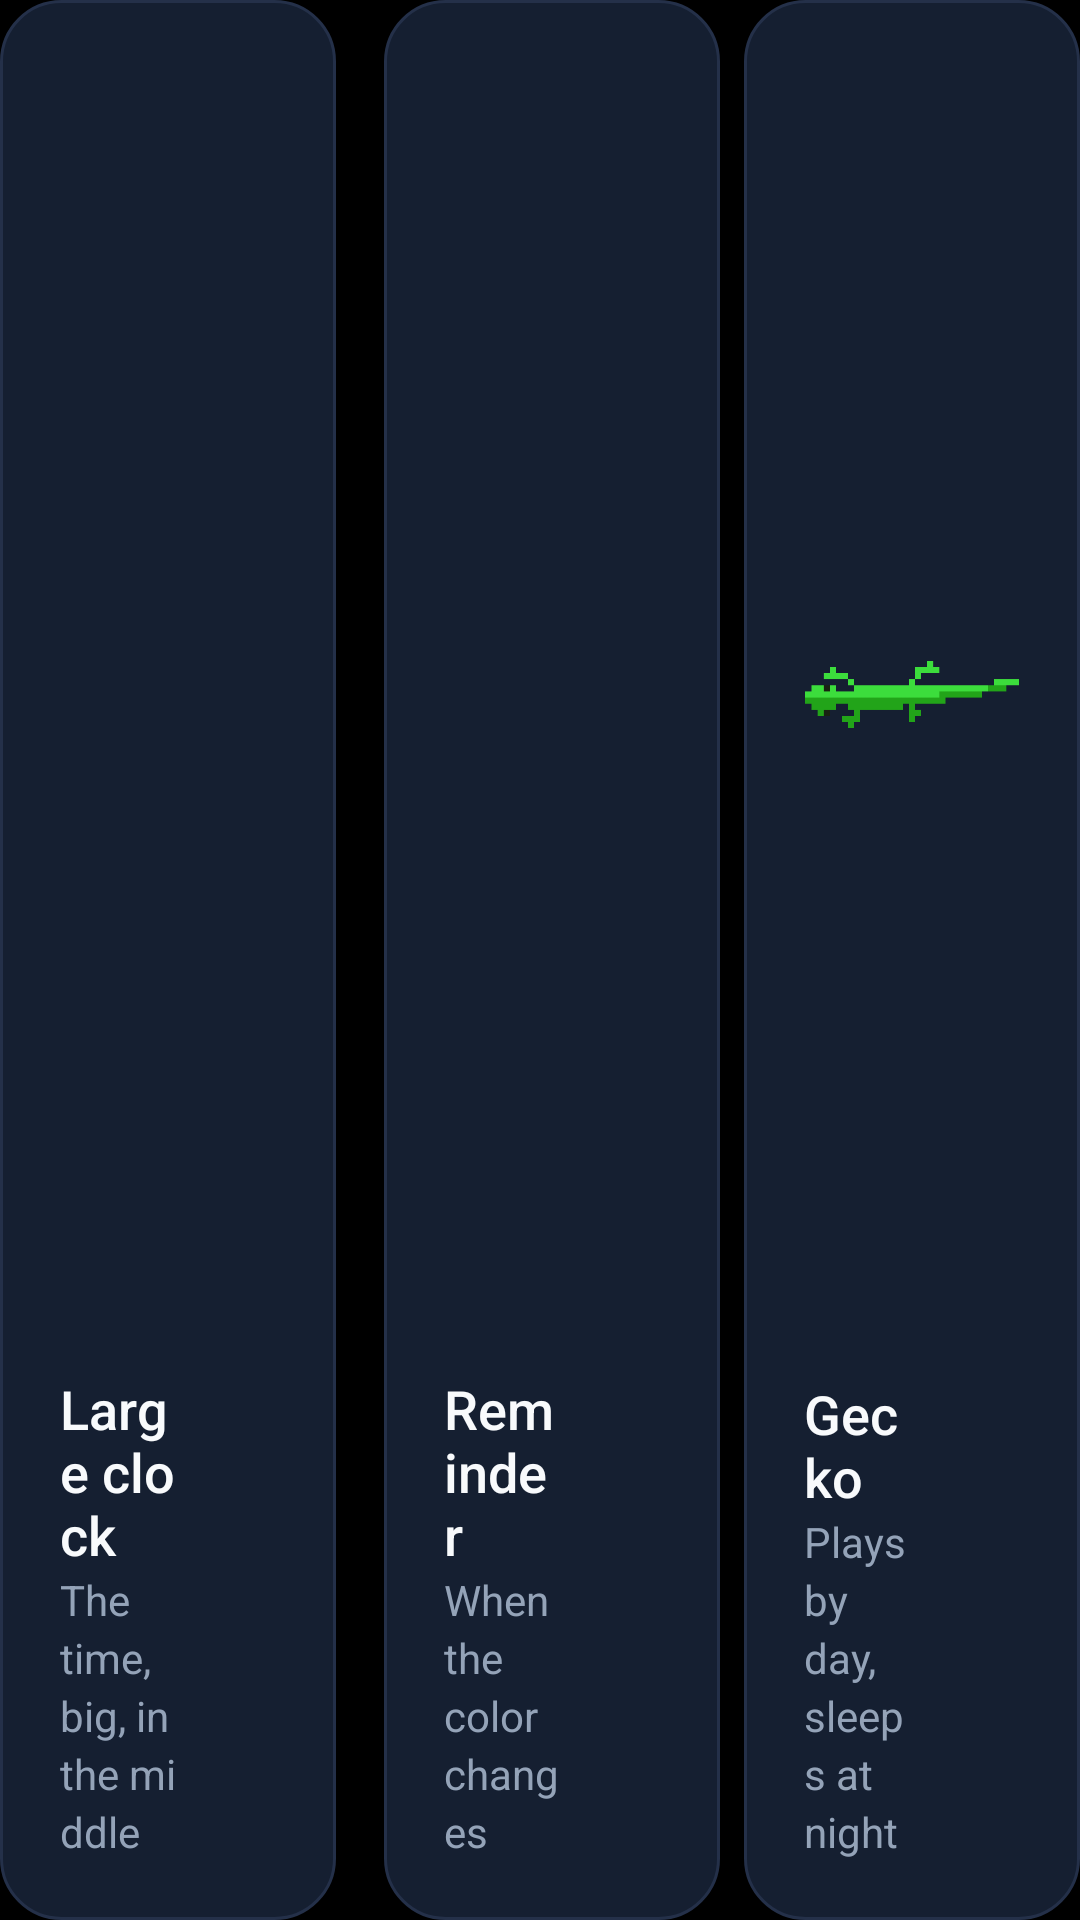

Point at icon controls on the screen. Image size 1080px×1920px, points as point (x, y).
A pixel gecko: point (912, 694)
